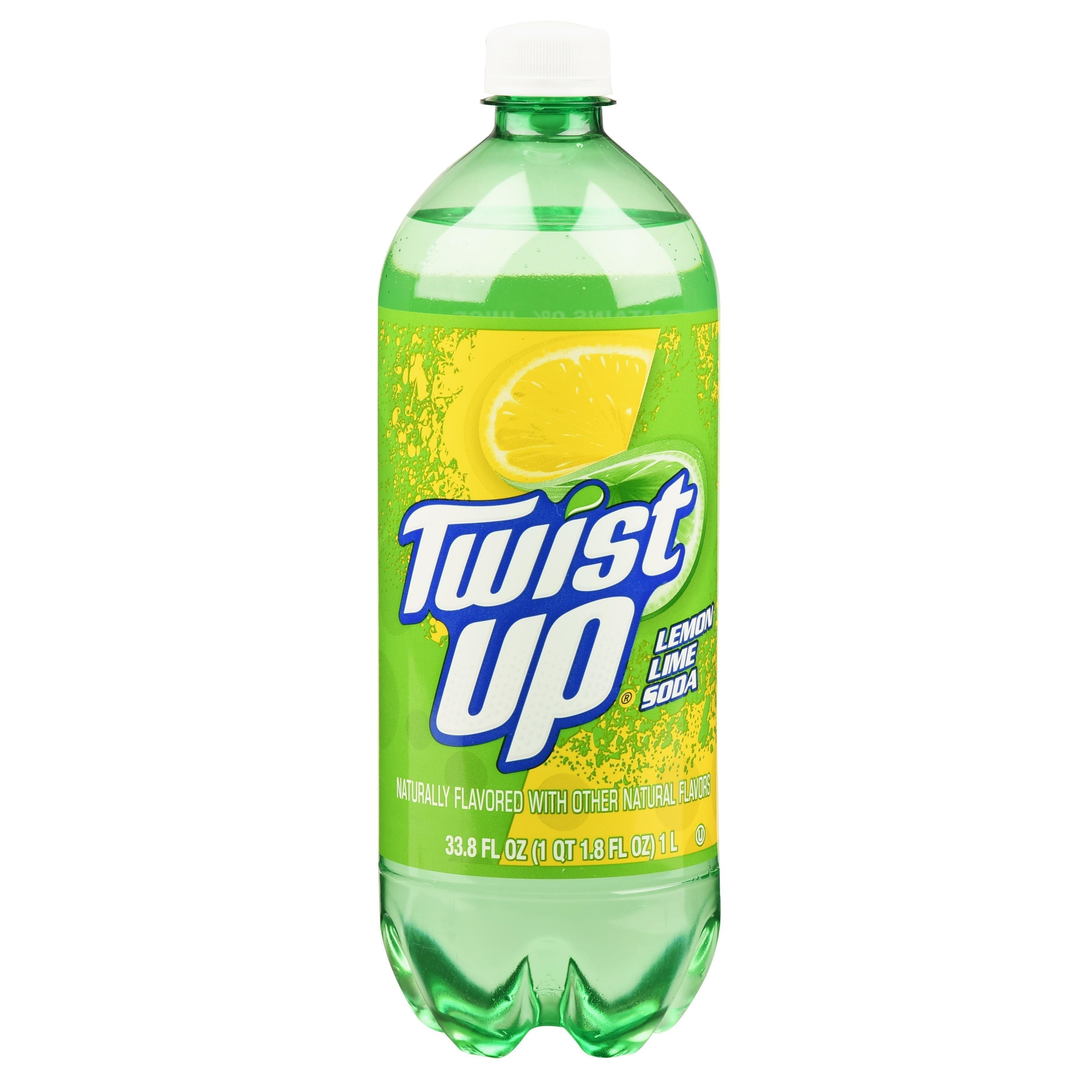bottle-plastic: (358, 9, 732, 1081)
